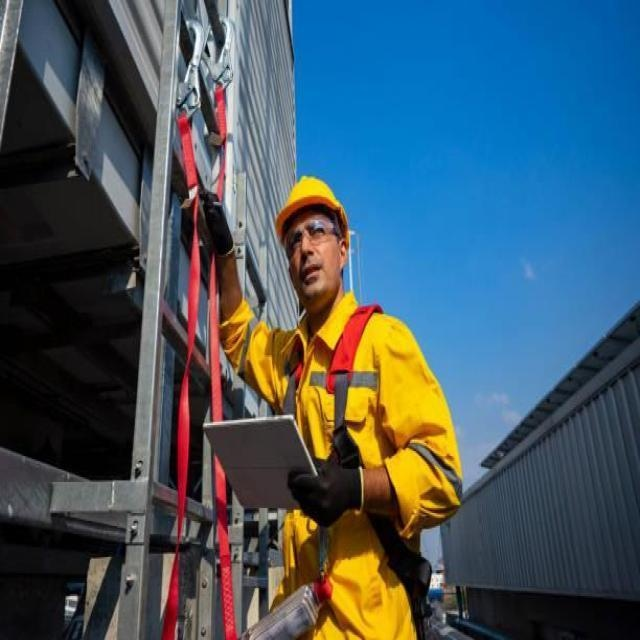Arnes_seguridad: (278, 295, 439, 640)
